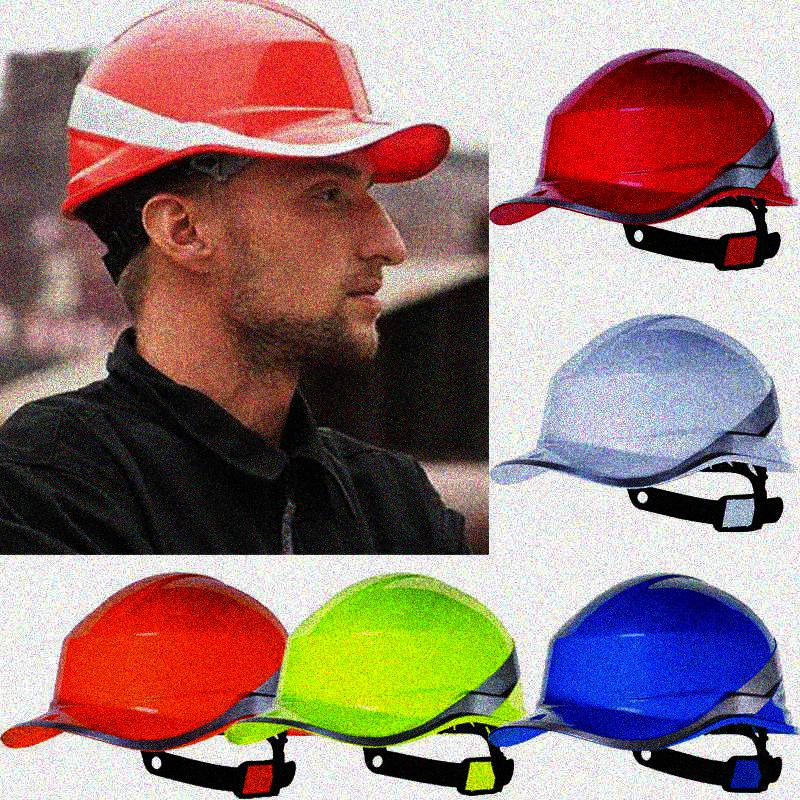helmet: (55, 2, 450, 376)
